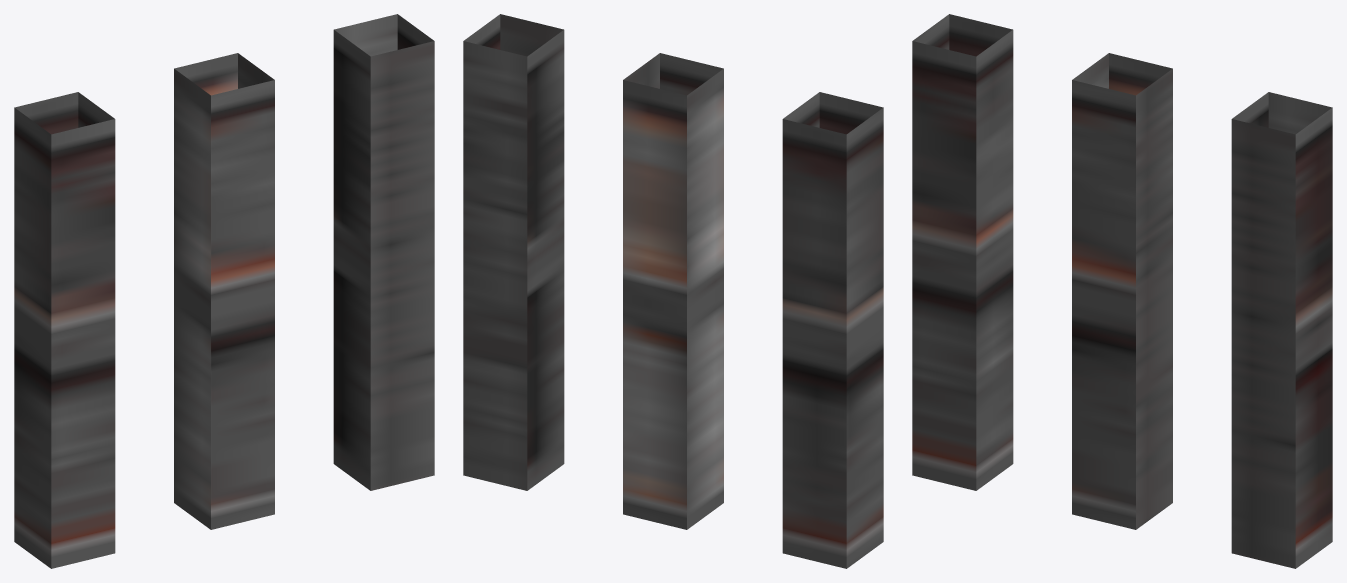
Rendered from supgry02_1-fixednormal.fbx.
The picture shows the model from 3 angles, left to right: view 1: azimuth 30°, elevation 25°; view 2: azimuth 150°, elevation 25°; view 3: azimuth 330°, elevation 25°; orthographic projection.
Parts seen in each view (by area): view 1: SUPGRY02_1; view 2: SUPGRY02_1; view 3: SUPGRY02_1.
Boxes of the visible parts, x1,y1,x2,y2 form: SUPGRY02_1: [14, 14, 434, 568]; SUPGRY02_1: [463, 14, 883, 568]; SUPGRY02_1: [912, 14, 1332, 568].
Bounding box in the file's own units: 192 × 208 × 32.
1 material, 1 textured.
